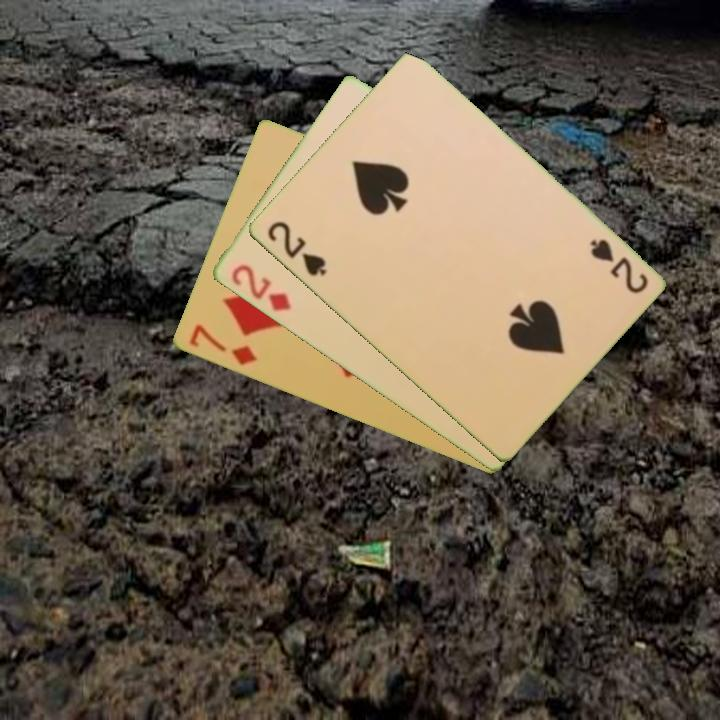2d: (227, 261, 294, 315)
2s: (263, 217, 330, 280), (586, 235, 651, 297)
7d: (185, 321, 260, 369)
